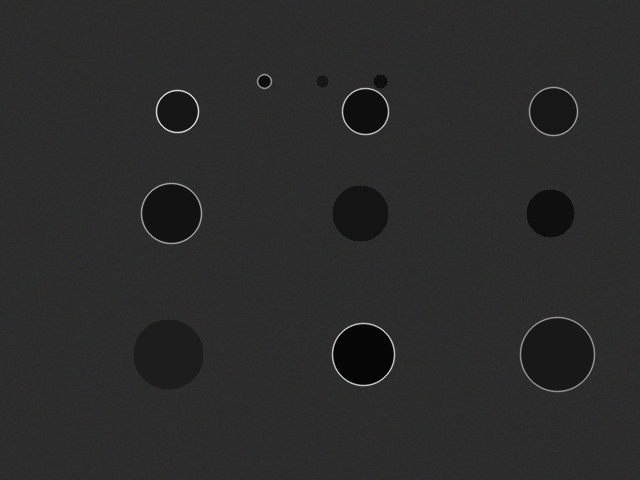hole: (520, 317, 594, 391), (133, 319, 203, 389), (332, 323, 394, 385), (141, 183, 201, 243), (332, 185, 388, 241), (529, 87, 577, 135), (526, 189, 574, 237), (342, 88, 388, 134), (156, 90, 198, 132), (257, 74, 271, 88), (373, 74, 387, 88), (316, 75, 328, 87)
